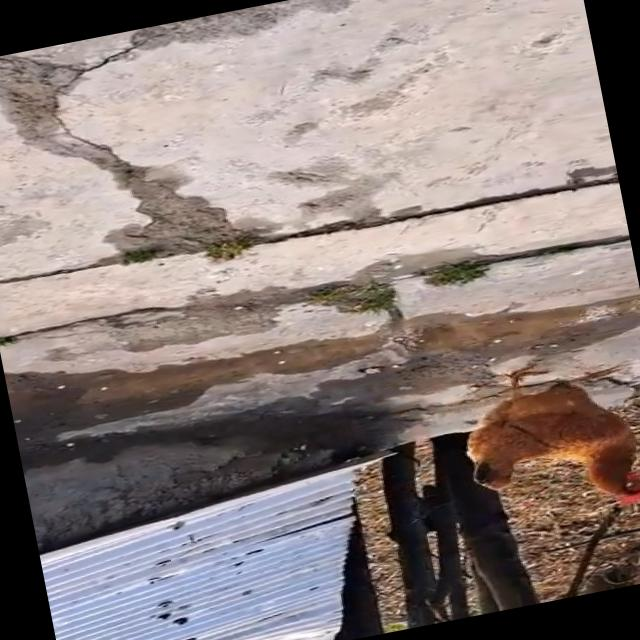walking: (440, 337, 640, 545)
